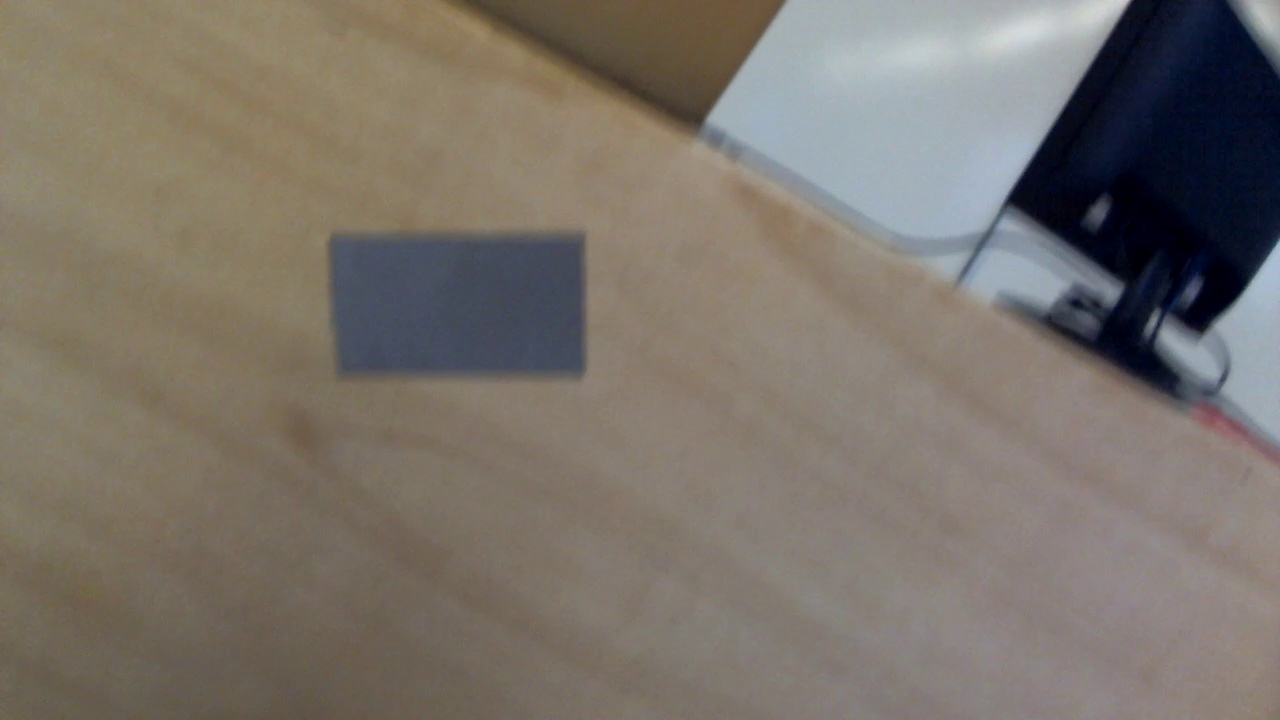Tape: (332, 233, 588, 381)
